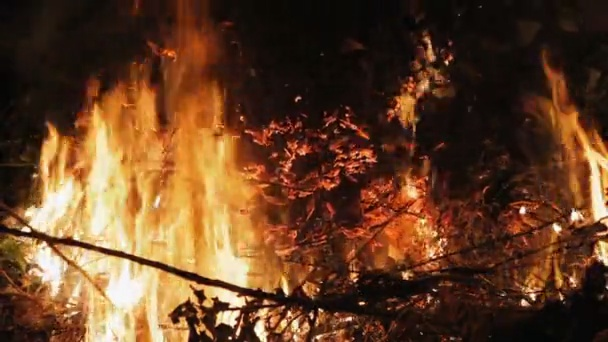fire: (9, 66, 269, 342), (585, 145, 608, 266), (404, 184, 417, 199), (279, 275, 289, 294)
